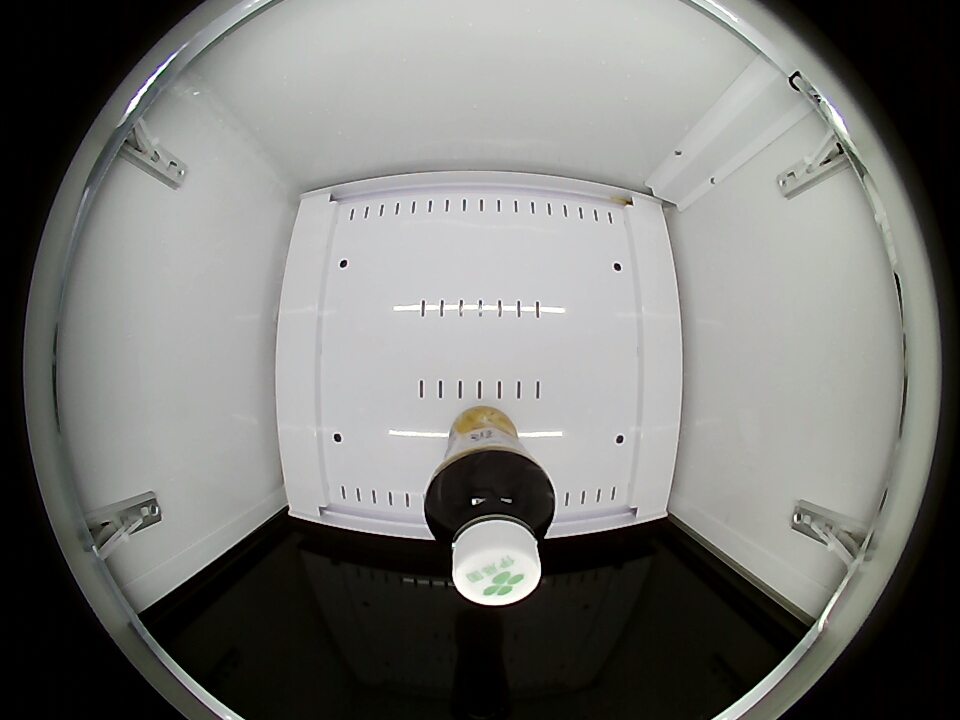damaicha: (424, 462, 557, 606)
